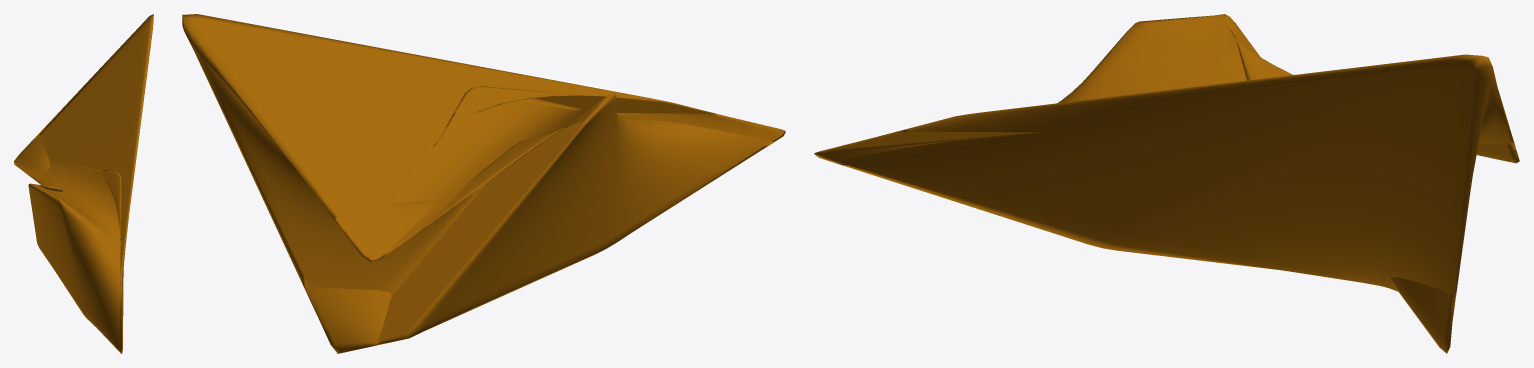
Rendered from thing.obj.
The picture shows the model from 3 angles, left to right: view 1: azimuth 30°, elevation 25°; view 2: azimuth 150°, elevation 25°; view 3: azimuth 270°, elevation 25°; orthographic projection. The views are drawn at different scales.
Parts seen in each view (by area): view 1: Cube; view 2: Cube; view 3: Cube.
Part boxes in pixels (x1=…): Cube: x1=14, y1=14, x2=153, y2=353; Cube: x1=182, y1=14, x2=785, y2=353; Cube: x1=814, y1=14, x2=1519, y2=353.
Size of the model in its own units: 9.28 by 8.59 by 14.43.
